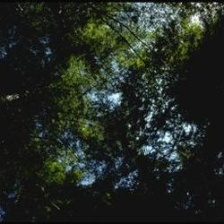neutral: (13, 3, 211, 193)
